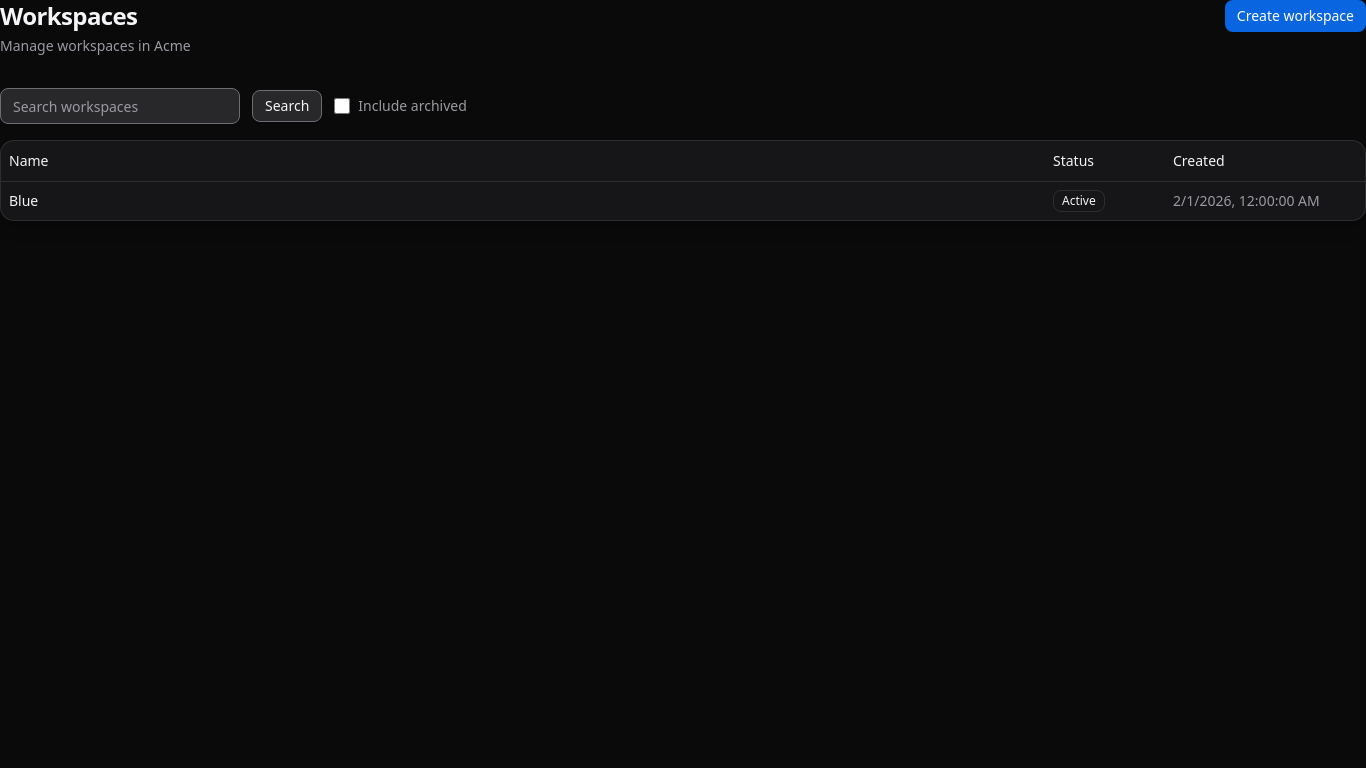
Test case: WorkspaceListPage › creates a workspace through the API
The image size is (1366, 768).
Expected: the link "Blue" is shown, [9,190,38,210]
Click the button "Create workspace".
click(1295, 16)  # box [1225,0,1365,32]
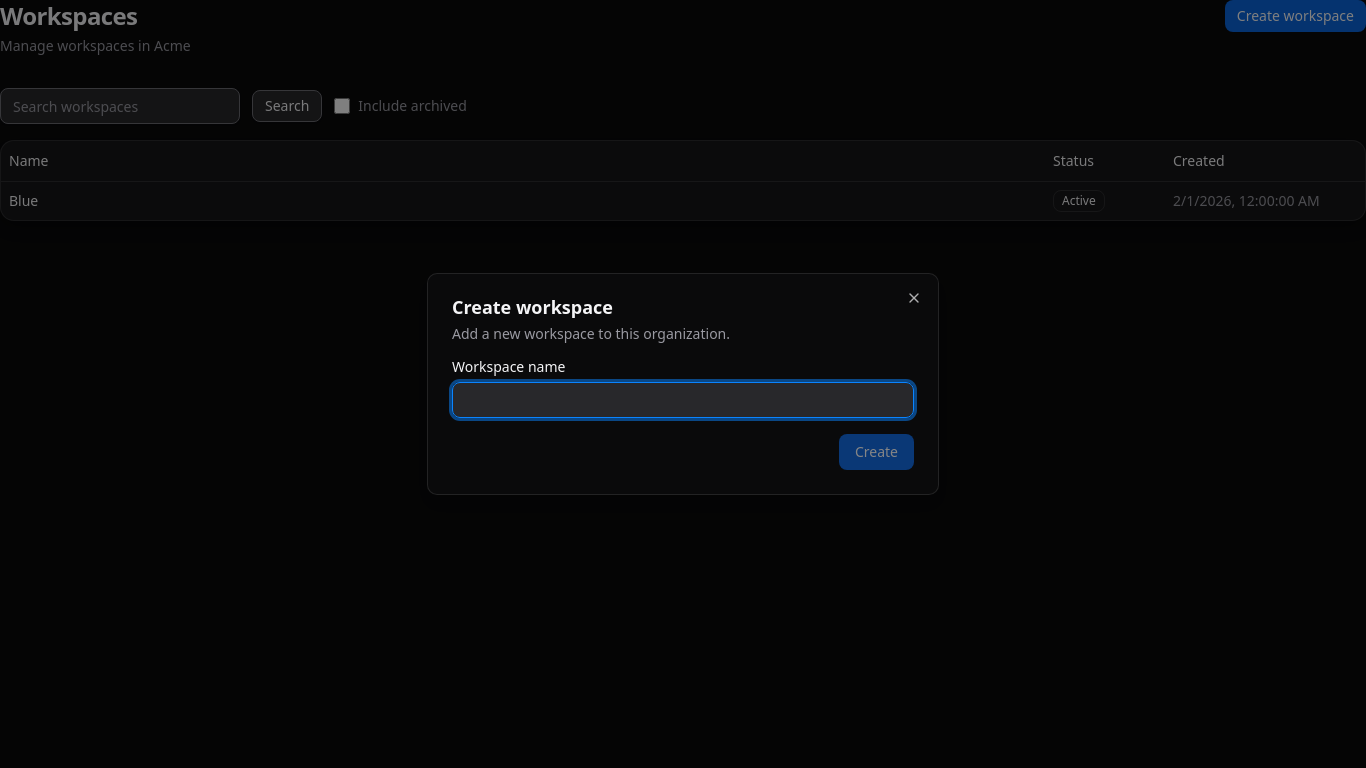
Type "Created" into the field labelled "Workspace name".
click(683, 400); type("Created")  # box [452,382,914,418]
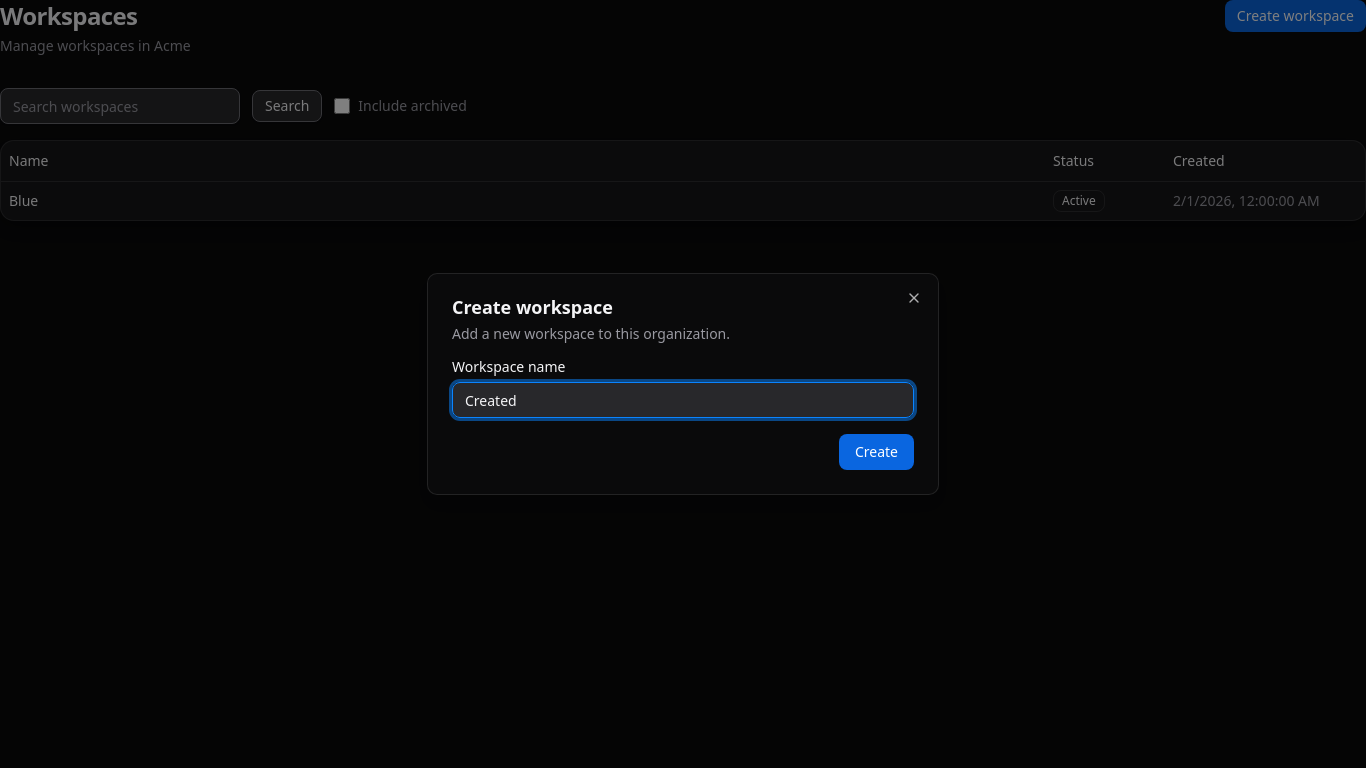
Click the button "Create".
click(876, 452)  # box [839,434,914,470]
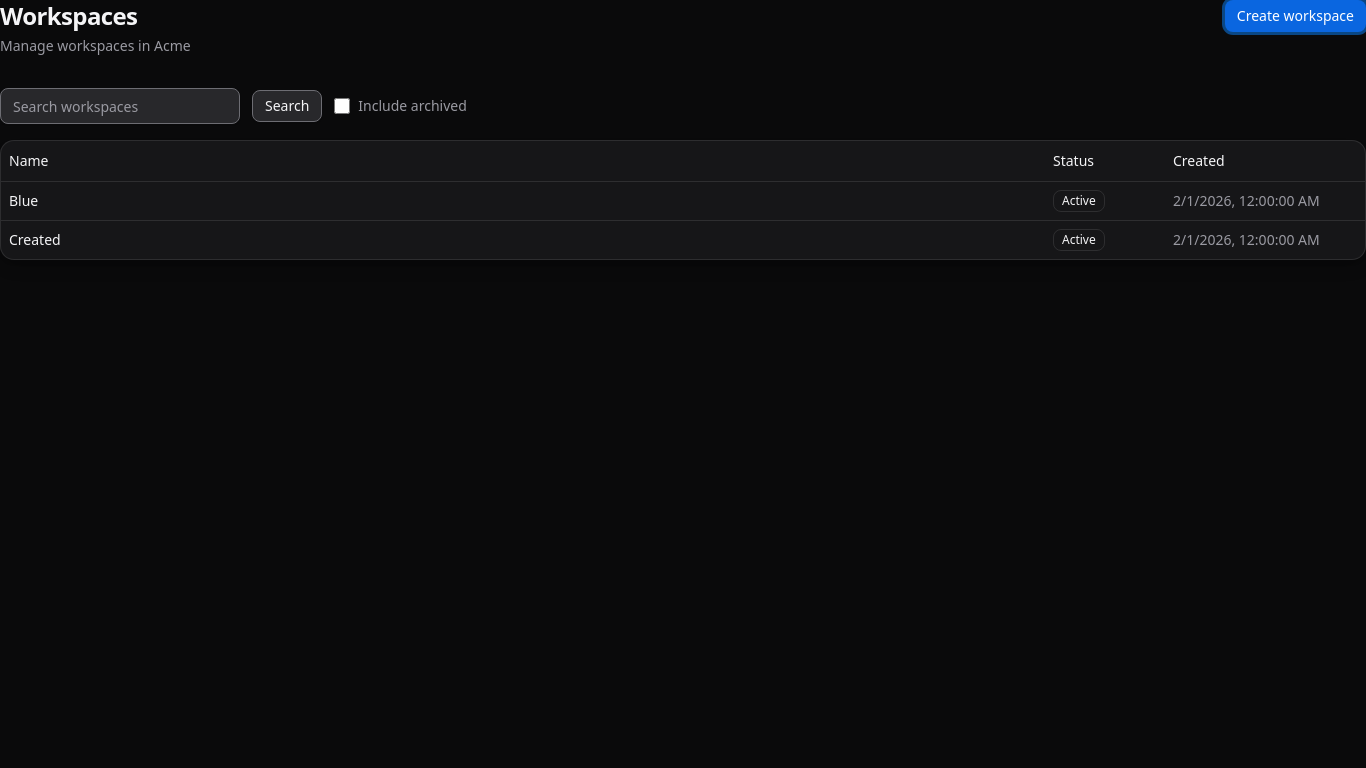
Result: the link "Created" is shown at [9,230,61,248]
Result: the dialog is gone
